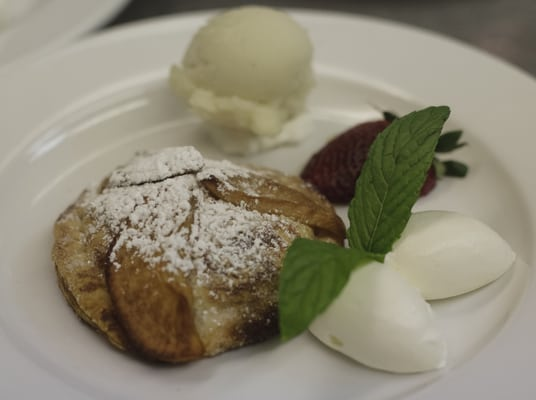soup: (53, 144, 347, 365)
